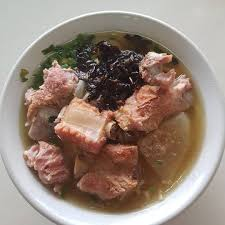soto: (2, 22, 225, 222)
